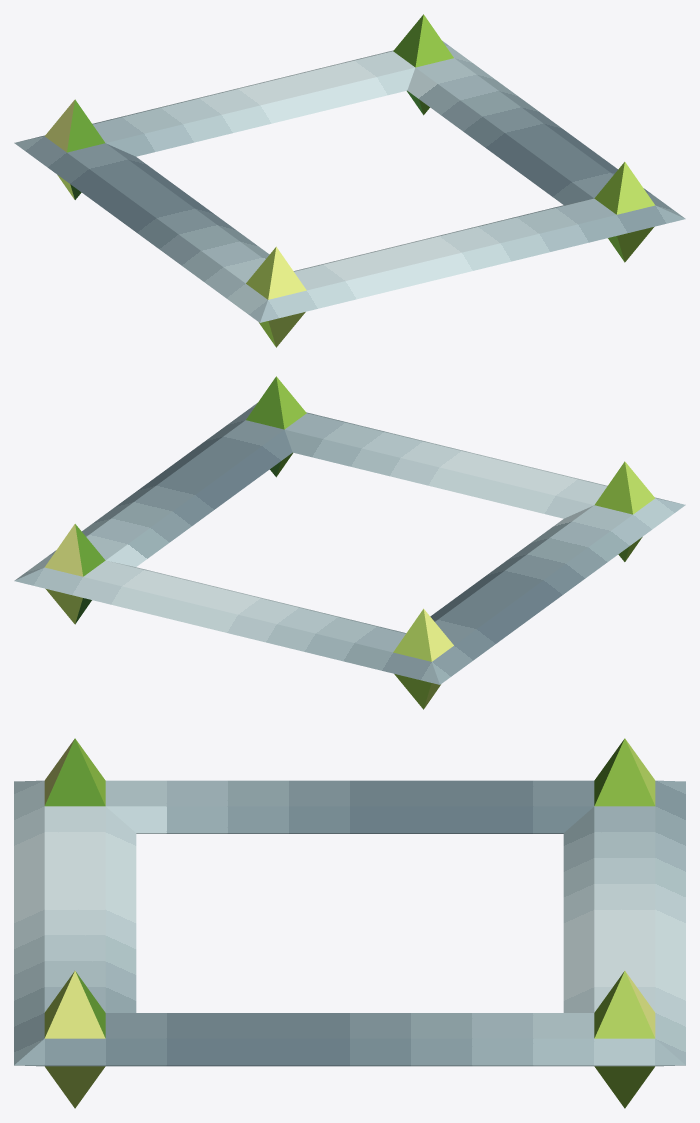
The model's file is experience_exchanger_ring1.obj.
3 views of the same model, one above another, from view 1: azimuth 30°, elevation 25°; view 2: azimuth 150°, elevation 25°; view 3: azimuth 270°, elevation 25° (orthographic). The views are drawn at different scales.
Visible parts, largest first — view 1: Plane.001; view 2: Plane.001; view 3: Plane.001.
Part boxes in pixels (x1,y1,x2,y2): Plane.001: (14, 14, 685, 347); Plane.001: (14, 376, 685, 709); Plane.001: (14, 738, 685, 1108).
Size of the model in its own units: 0.6875 by 0.1562 by 0.6875.
